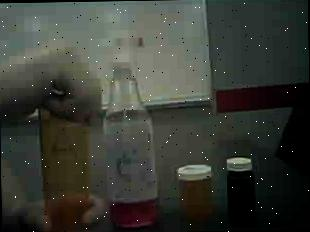Bottle A: (32, 73, 96, 232)
Bottle B: (173, 160, 216, 224)
Bottle C: (226, 154, 260, 224)
hazard: (98, 22, 164, 232)
